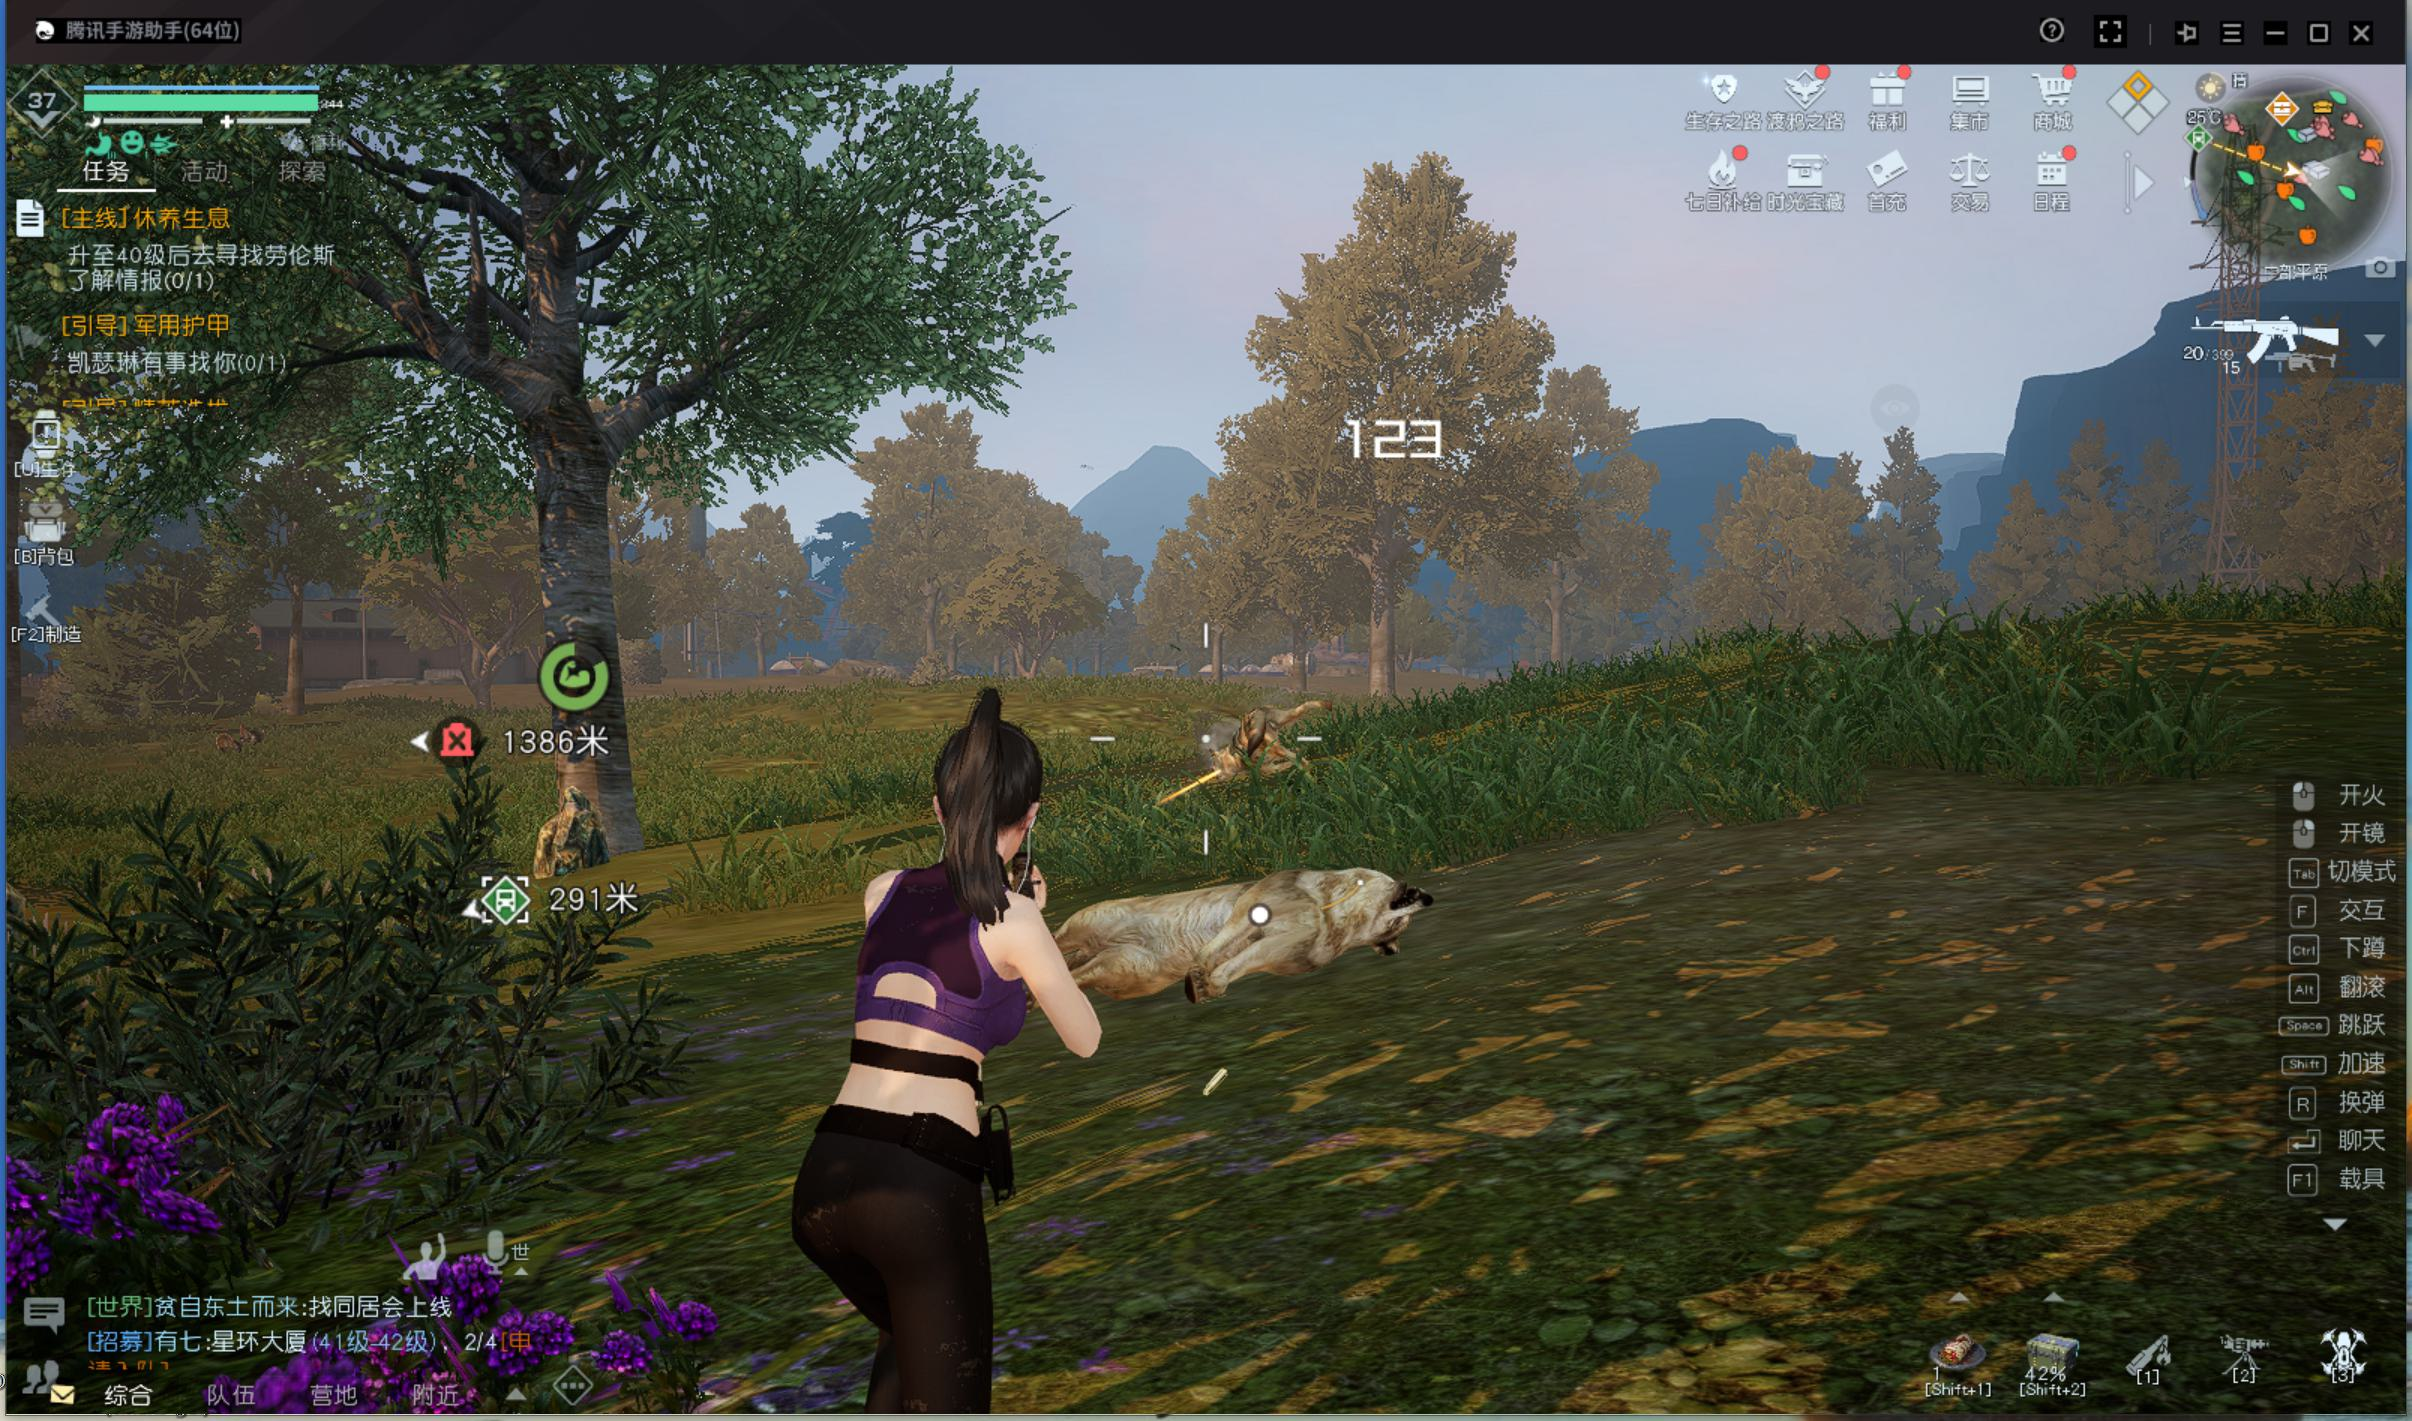stone: (521, 793, 634, 890)
tree: (511, 431, 648, 783), (1357, 545, 1401, 716), (1538, 562, 1575, 700), (1292, 621, 1316, 700), (1208, 616, 1228, 700), (744, 628, 775, 678)
